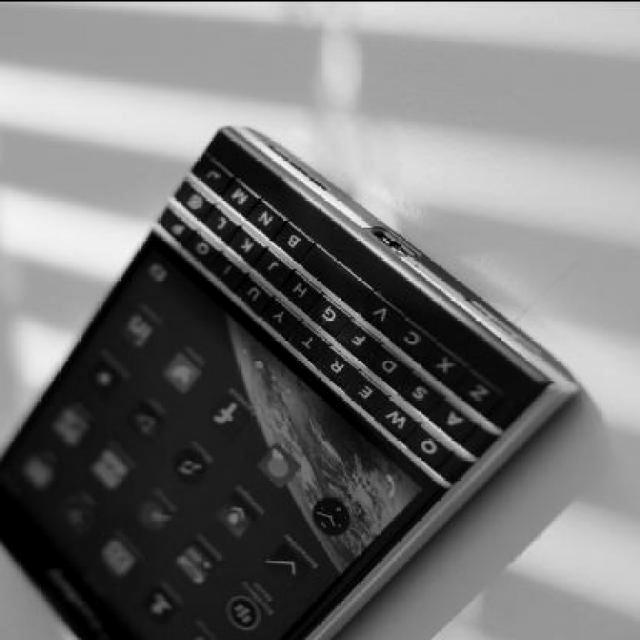fake: (0, 126, 582, 640)
